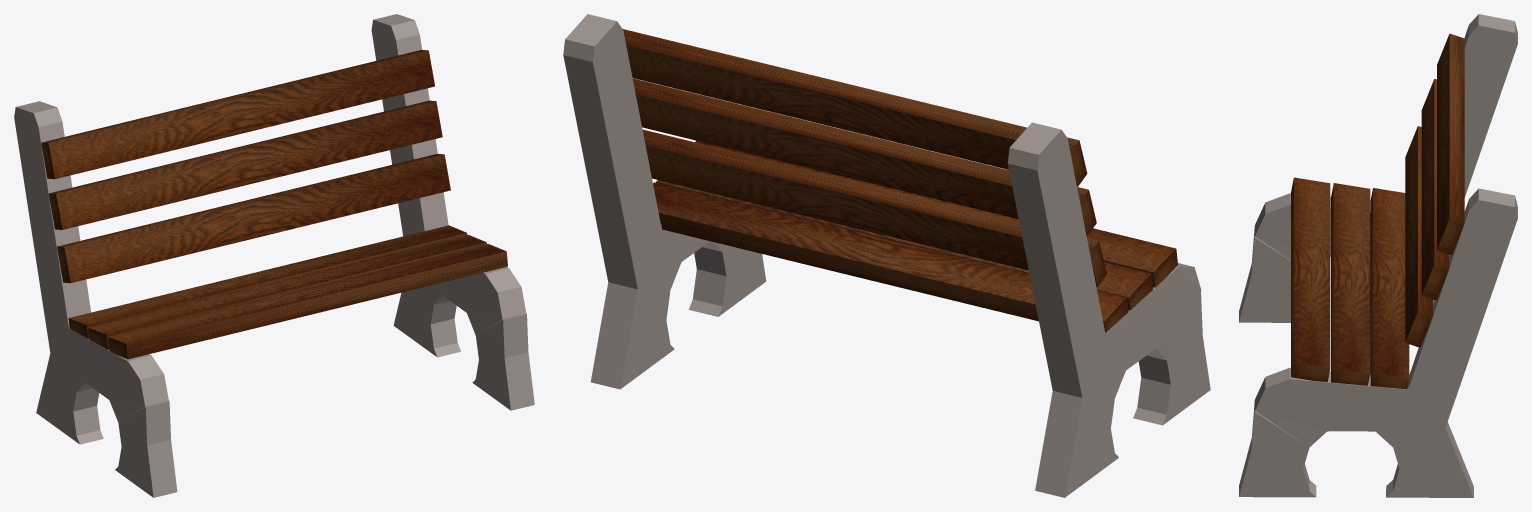
Rendered from Bench.obj.
The picture shows the model from 3 angles, left to right: view 1: azimuth 30°, elevation 25°; view 2: azimuth 150°, elevation 25°; view 3: azimuth 270°, elevation 25°; orthographic projection. The views are drawn at different scales.
Parts seen in each view (by area): view 1: Diff_Circle, Diff.001_Circle.002, Cube.001_Cube.002, Cube.002_Cube.003, Cube, Cube.003_Cube.004, Cube.005_Cube.006, Cube.004_Cube.005; view 2: Diff_Circle, Diff.001_Circle.002, Cube, Cube.002_Cube.003, Cube.001_Cube.002, Cube.005_Cube.006, Cube.003_Cube.004, Cube.004_Cube.005; view 3: Diff.001_Circle.002, Diff_Circle, Cube.003_Cube.004, Cube.004_Cube.005, Cube.005_Cube.006, Cube, Cube.002_Cube.003, Cube.001_Cube.002.
Boxes of the visible parts, bbox=[...] form: Diff_Circle: bbox=[14, 101, 177, 497]; Diff.001_Circle.002: bbox=[371, 14, 534, 410]; Cube.001_Cube.002: bbox=[49, 100, 442, 229]; Cube.002_Cube.003: bbox=[57, 154, 450, 283]; Cube: bbox=[41, 50, 434, 179]; Cube.003_Cube.004: bbox=[108, 244, 507, 359]; Cube.005_Cube.006: bbox=[68, 225, 467, 338]; Cube.004_Cube.005: bbox=[88, 235, 486, 349]; Diff_Circle: bbox=[1007, 122, 1210, 497]; Diff.001_Circle.002: bbox=[563, 14, 766, 389]; Cube: bbox=[623, 29, 1087, 186]; Cube.002_Cube.003: bbox=[642, 129, 1106, 287]; Cube.001_Cube.002: bbox=[632, 78, 1096, 235]; Cube.005_Cube.006: bbox=[653, 182, 1128, 332]; Cube.003_Cube.004: bbox=[695, 140, 1177, 287]; Cube.004_Cube.005: bbox=[656, 180, 1153, 310]; Diff.001_Circle.002: bbox=[1239, 188, 1517, 497]; Diff_Circle: bbox=[1239, 14, 1517, 322]; Cube.003_Cube.004: bbox=[1291, 177, 1330, 381]; Cube.004_Cube.005: bbox=[1331, 183, 1370, 385]; Cube.005_Cube.006: bbox=[1370, 188, 1409, 389]; Cube: bbox=[1437, 33, 1464, 255]; Cube.002_Cube.003: bbox=[1405, 126, 1432, 347]; Cube.001_Cube.002: bbox=[1421, 78, 1449, 300].
Bounding box in the file's own units: 1.95 × 1.46 × 1.23.
Materials: 2 (1 with a texture image).
